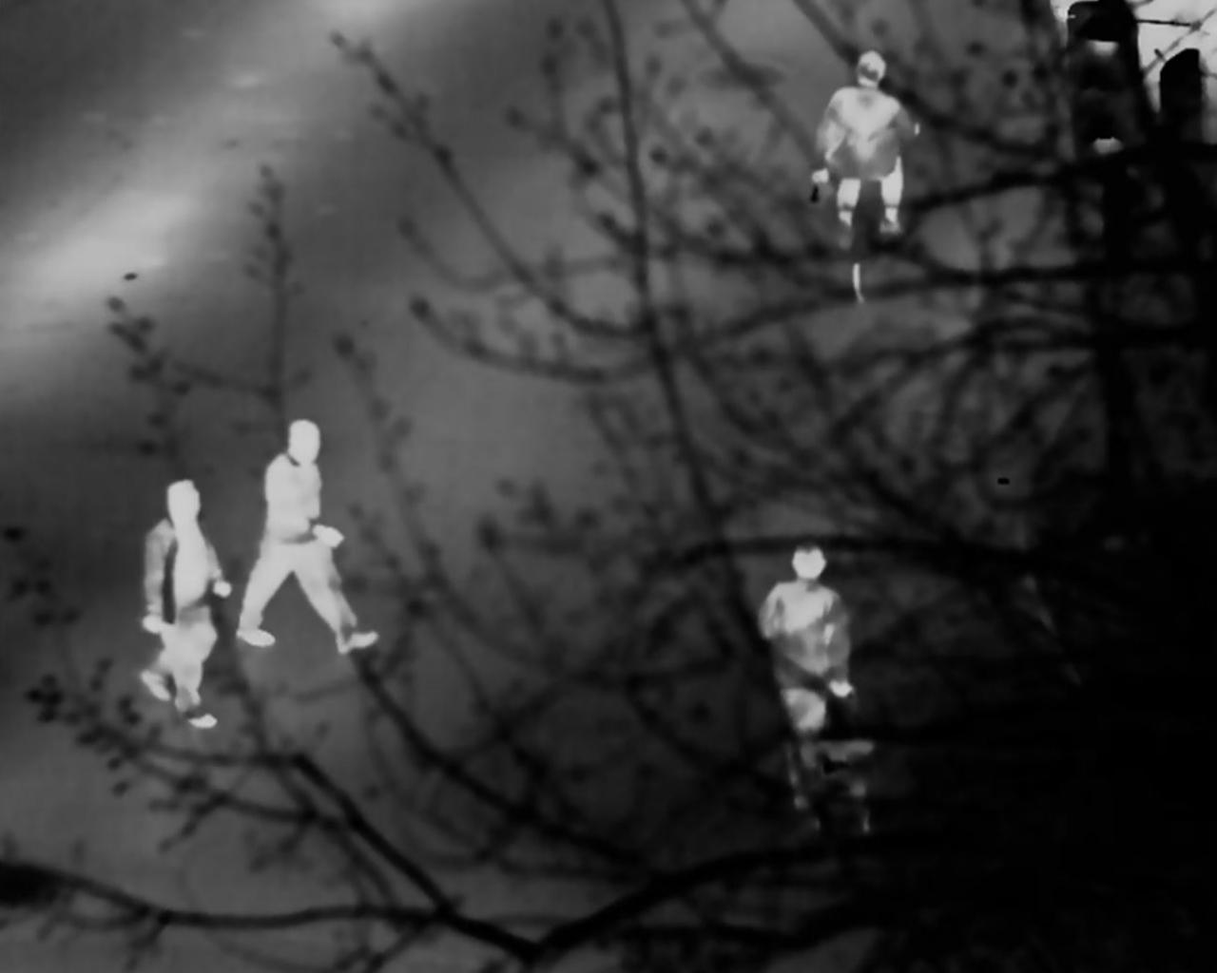person: (245, 403, 382, 639), (822, 58, 927, 281), (763, 528, 859, 733), (150, 472, 234, 700)
